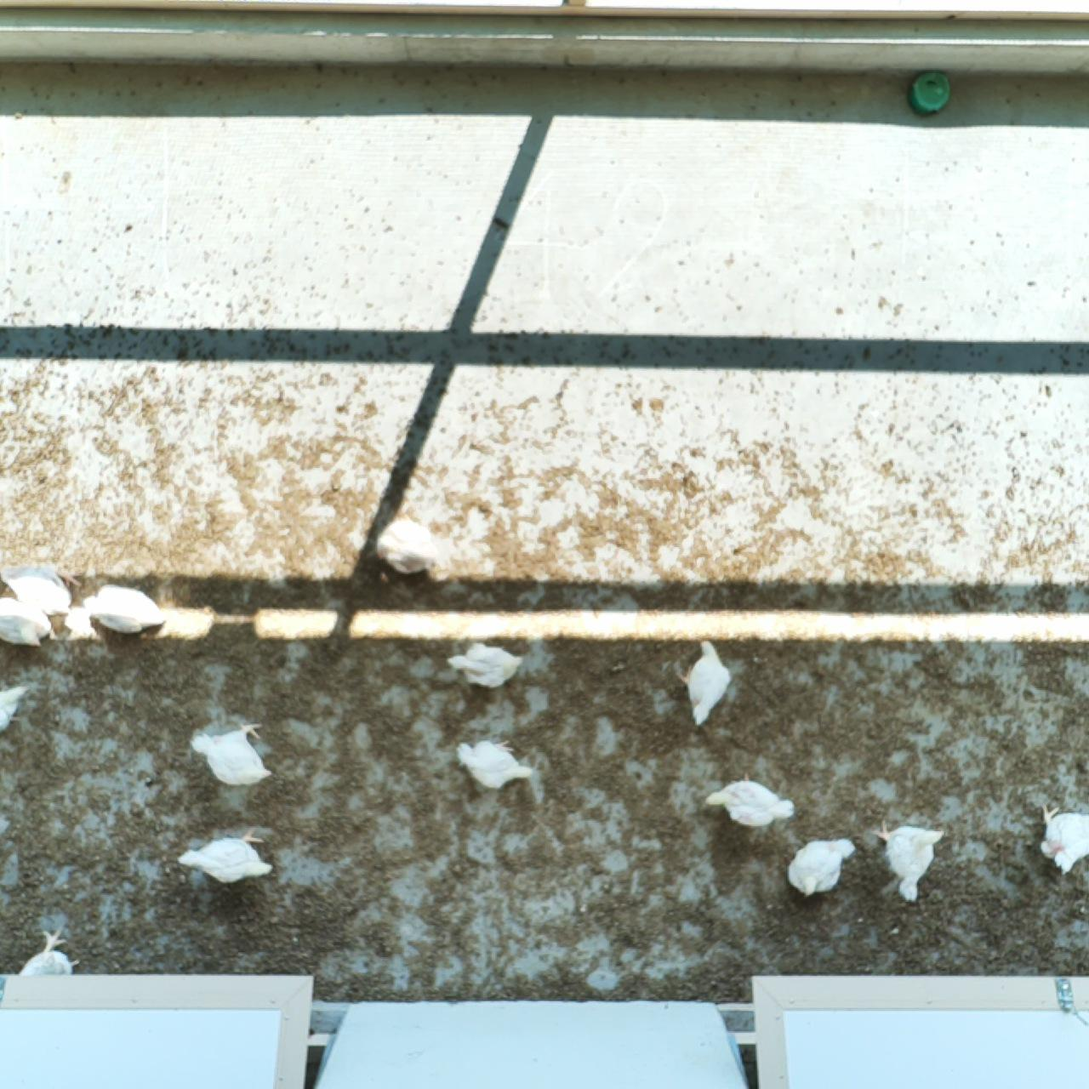chicken: (871, 817, 945, 907), (174, 823, 276, 886), (188, 718, 274, 787), (703, 770, 798, 829), (373, 514, 454, 583), (674, 635, 735, 726), (77, 580, 168, 637), (0, 560, 84, 621), (785, 835, 859, 900), (453, 736, 535, 791), (444, 637, 527, 689), (1038, 801, 1089, 877), (16, 924, 86, 976), (0, 594, 55, 649), (0, 681, 30, 737)
